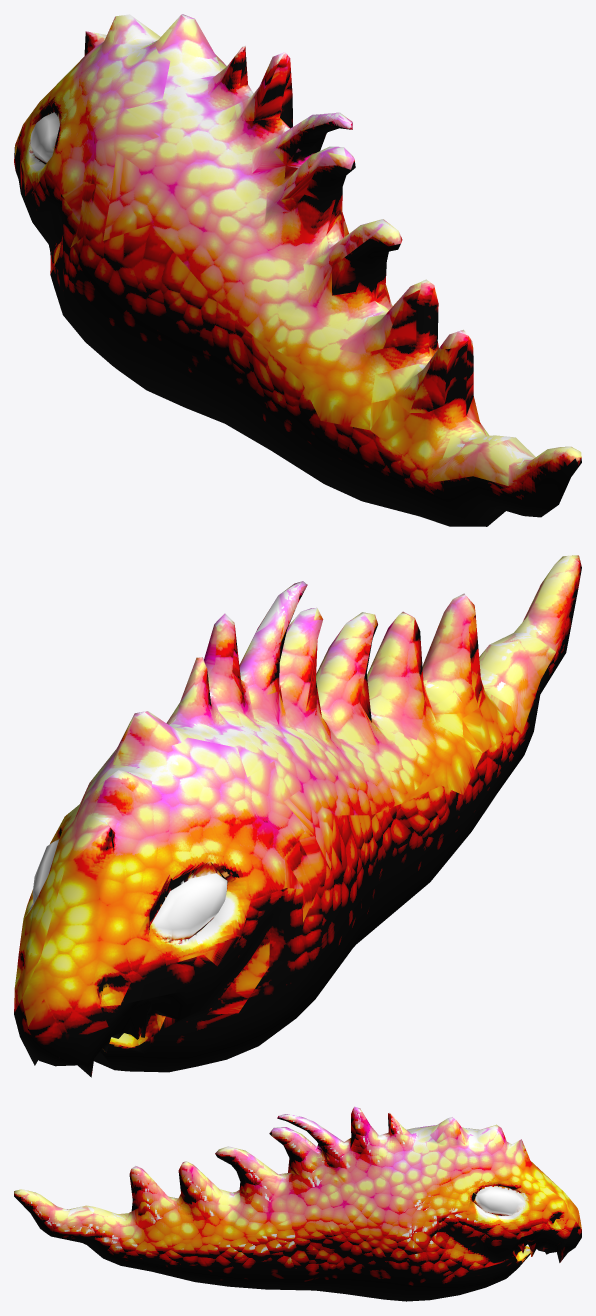
The model's file is sea_beast.glb.
3 views of the same model, one above another, from view 1: azimuth 30°, elevation 25°; view 2: azimuth 150°, elevation 25°; view 3: azimuth 270°, elevation 25° (orthographic). The views are drawn at different scales.
Visible parts, largest first — view 1: Sphere_007.002; view 2: Sphere_007.002; view 3: Sphere_007.002.
Part boxes in pixels (x1,y1,x2,y2): Sphere_007.002: (14, 14, 581, 526); Sphere_007.002: (14, 555, 581, 1077); Sphere_007.002: (14, 1106, 581, 1301).
Size of the model in its own units: 6.41 by 9.64 by 25.1.
Materials: 1 (1 with a texture image).
